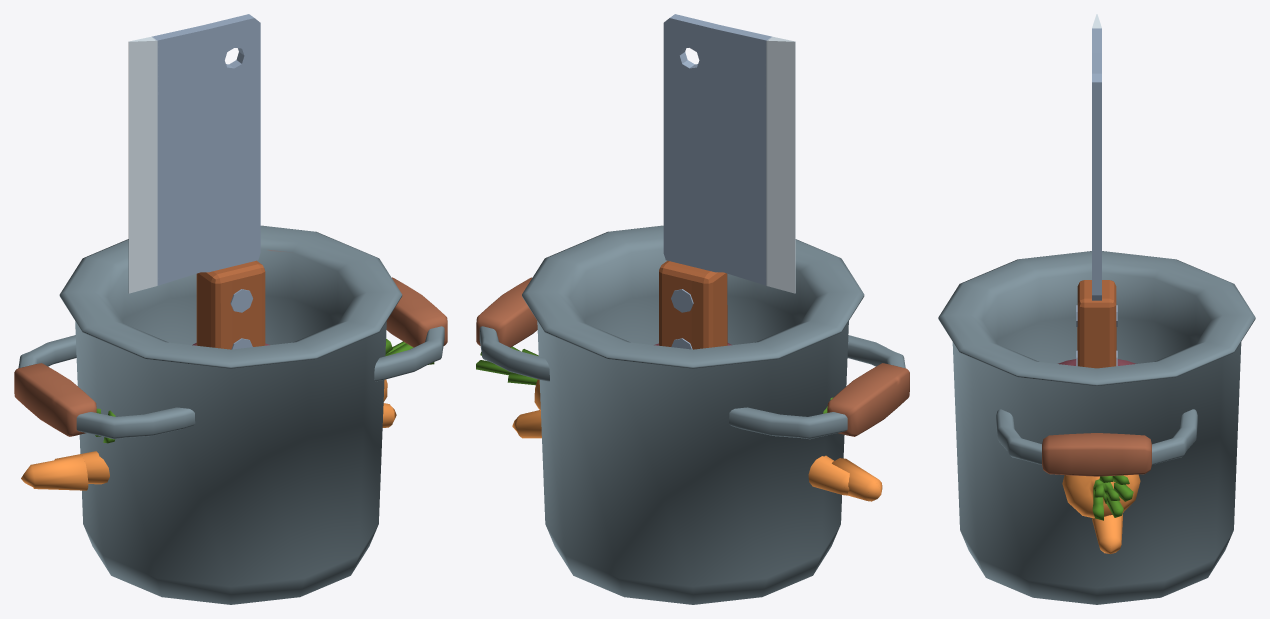
File: Props_vs02.fbx
3 renders of one model, left to right at view 1: azimuth 30°, elevation 25°; view 2: azimuth 150°, elevation 25°; view 3: azimuth 270°, elevation 25°, orthographic. The views are drawn at different scales.
Parts seen in each view (by area): view 1: Pot_Final, knife.001, Carrot_quater.01, Carrot_half.02; view 2: Pot_Final, knife.001, Carrot_half.02, Carrot_quater.01, Carrot_whole; view 3: Pot_Final, knife.001, Carrot_quater.004, Carrot_whole, Carrot_half.01.
Part boxes in pixels (box(x1,y1,x2,y2)): Pot_Final: box(14, 225, 447, 604); knife.001: box(128, 14, 265, 349); Carrot_quater.01: box(21, 455, 88, 490); Carrot_half.02: box(54, 451, 109, 484); Pot_Final: box(476, 225, 909, 604); knife.001: box(659, 14, 795, 349); Carrot_half.02: box(808, 455, 849, 495); Carrot_quater.01: box(832, 458, 882, 501); Carrot_whole: box(512, 397, 833, 438); Pot_Final: box(938, 251, 1255, 604); knife.001: box(1076, 14, 1117, 368); Carrot_quater.004: box(1062, 474, 1140, 520); Carrot_whole: box(1092, 514, 1122, 553); Carrot_half.01: box(1099, 475, 1133, 503).
Bounding box in the file's own units: 75.52 × 94.71 × 55.51.
